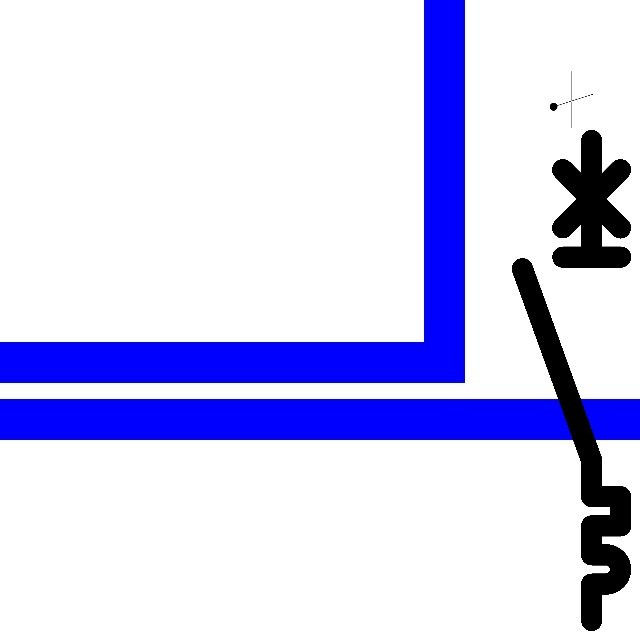interruptor_termomagnetico: (510, 128, 633, 633)
